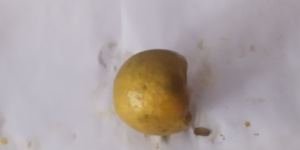BAD: (110, 49, 198, 134)
